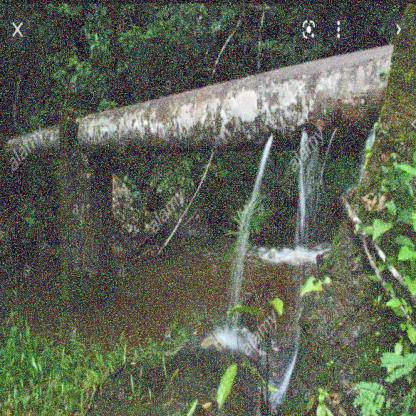burst: (253, 116, 330, 160)
